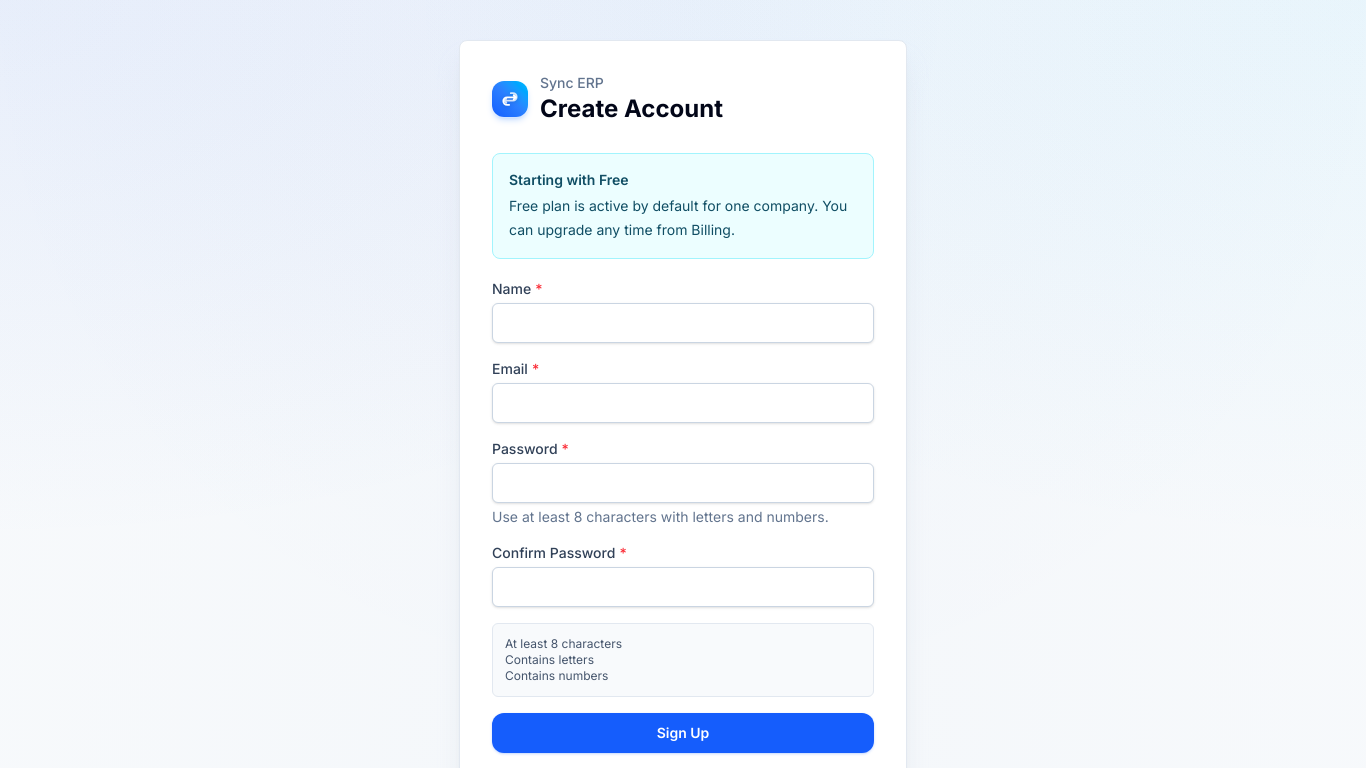
Test: RegisterPage › Form Submission › shows loading state during submission
The image size is (1366, 768).
Type "Test User" into the field labelled "Name*" at (683, 323), box [492,303,874,343]
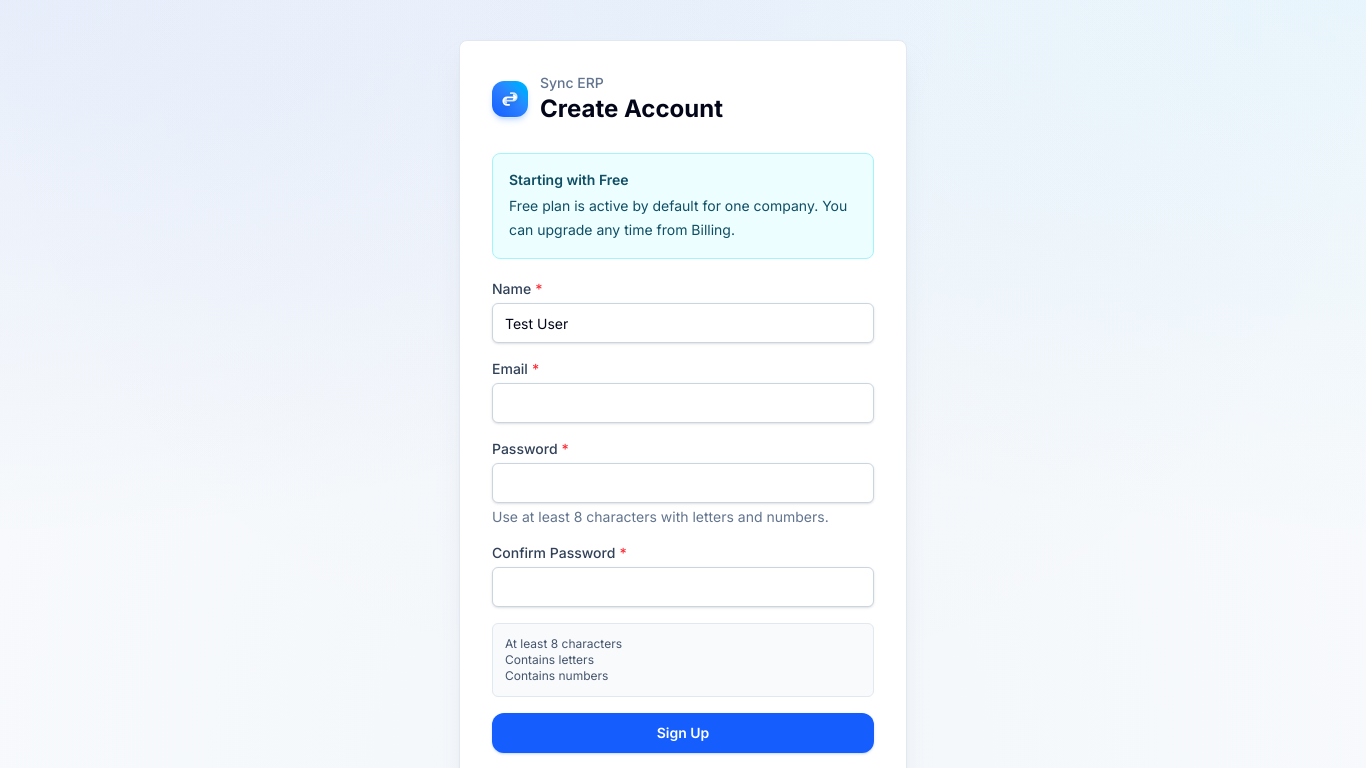
Type "test@example.com" into the field labelled "Email*" at (683, 403), box [492,383,874,423]
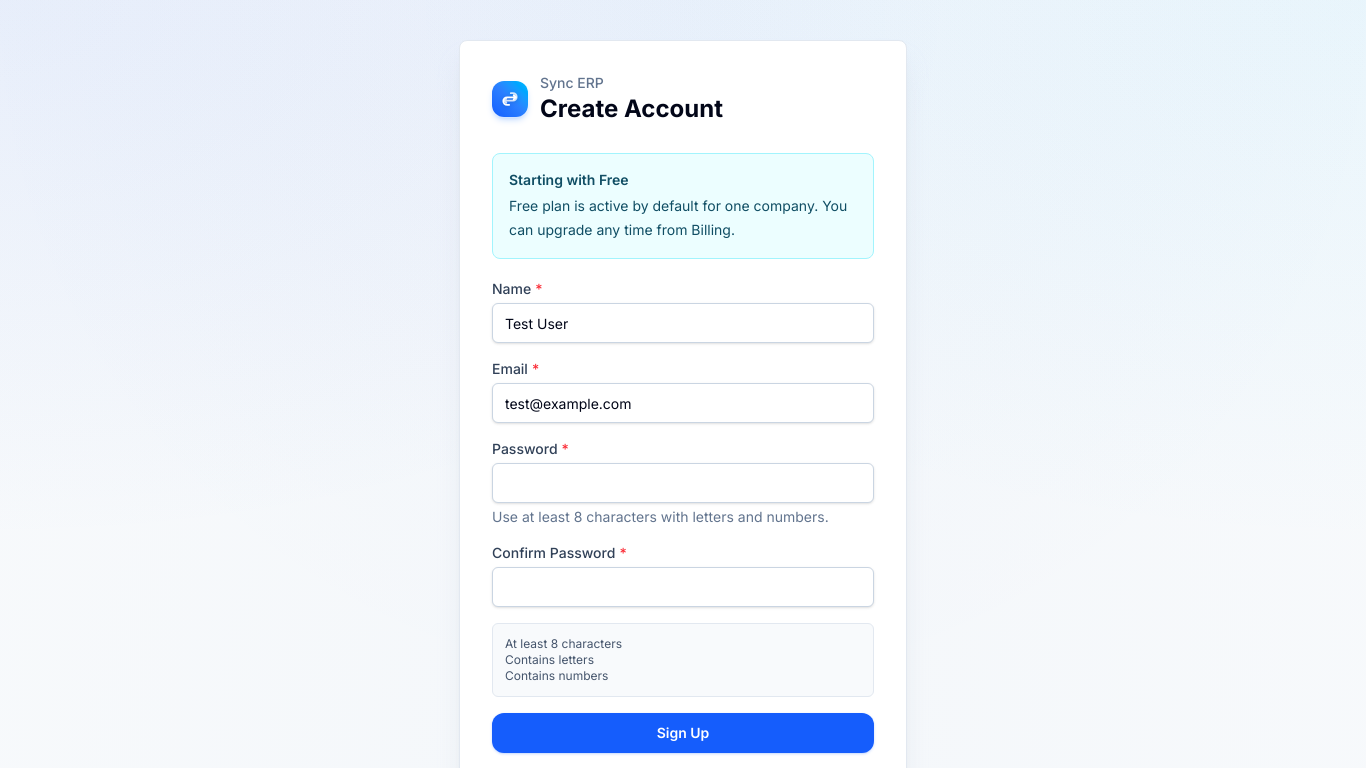
Type "password123" into the password field labelled "Password*" at (683, 483), box [492,463,874,503]
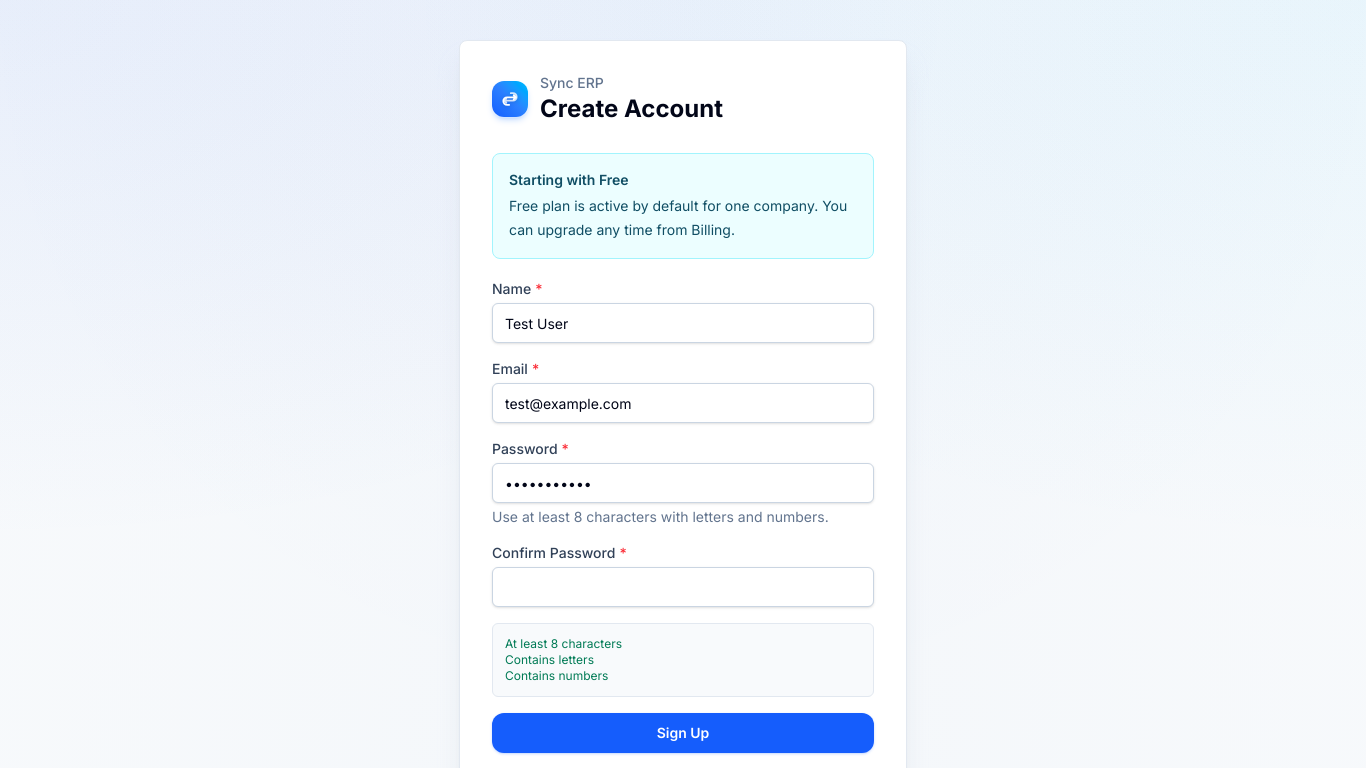
Type "password123" into the password field labelled "Confirm Password*" at (683, 587), box [492,567,874,607]
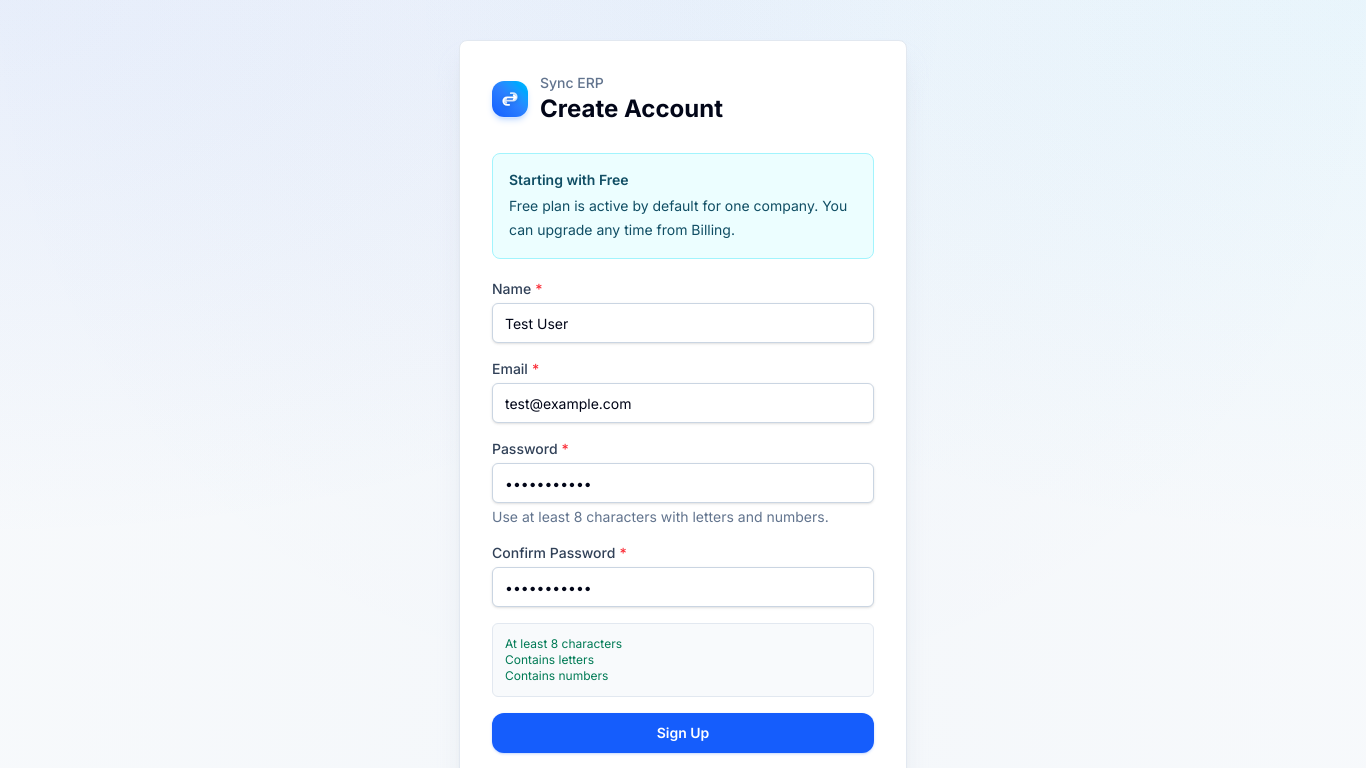
Click the button "Sign Up" at (683, 733), box [492,713,874,753]
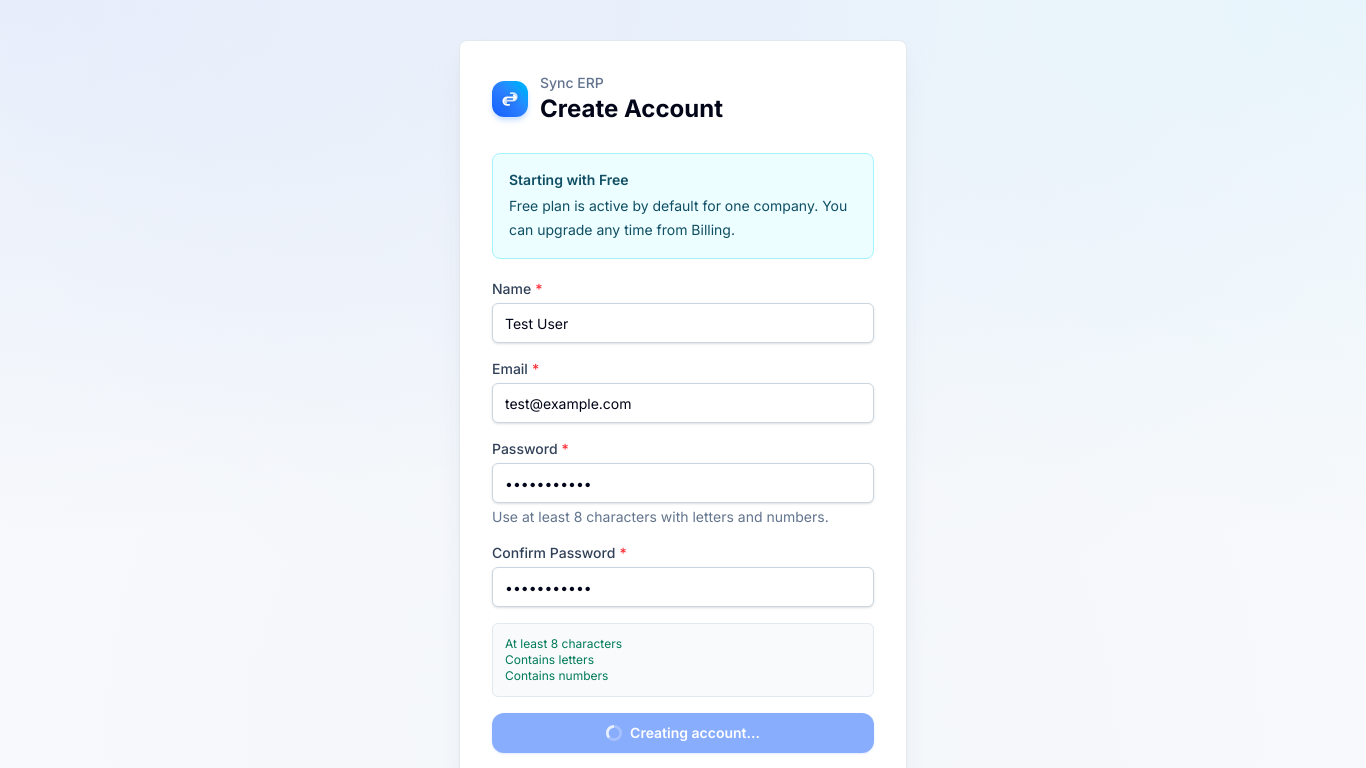
Now the button "Creating account..." is shown, box [492,713,874,753]
